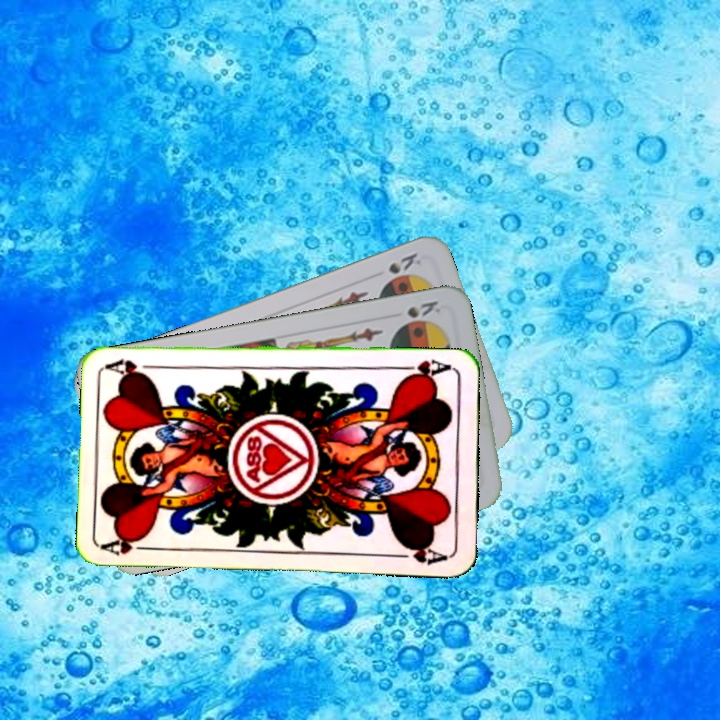HA: (396, 355, 456, 382), (101, 532, 160, 558)
SK: (384, 248, 424, 277), (403, 296, 443, 320)
